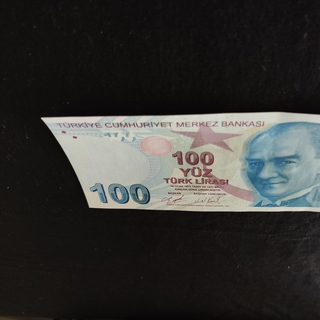100TLFront: (41, 111, 320, 214)
